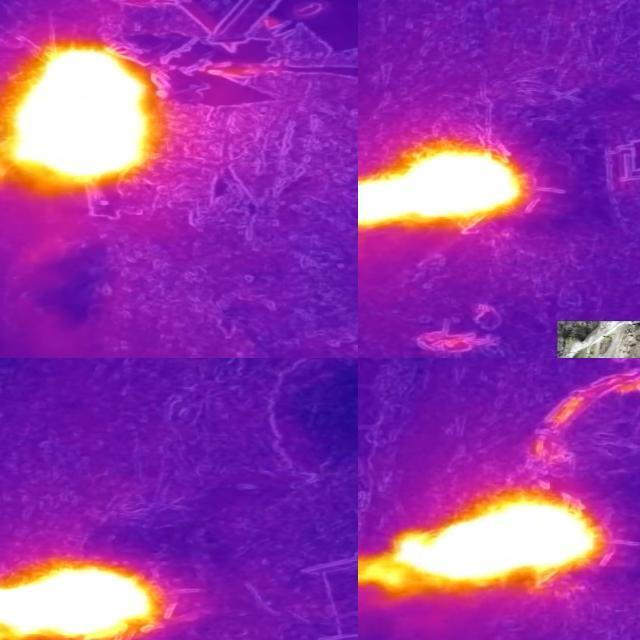fire: (359, 491, 606, 595), (1, 39, 161, 192), (359, 142, 531, 235), (1, 563, 160, 640)
